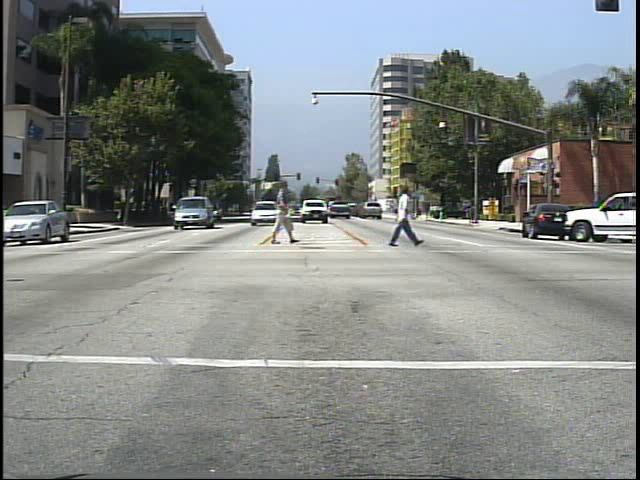person: (265, 175, 302, 249), (388, 176, 422, 254)
